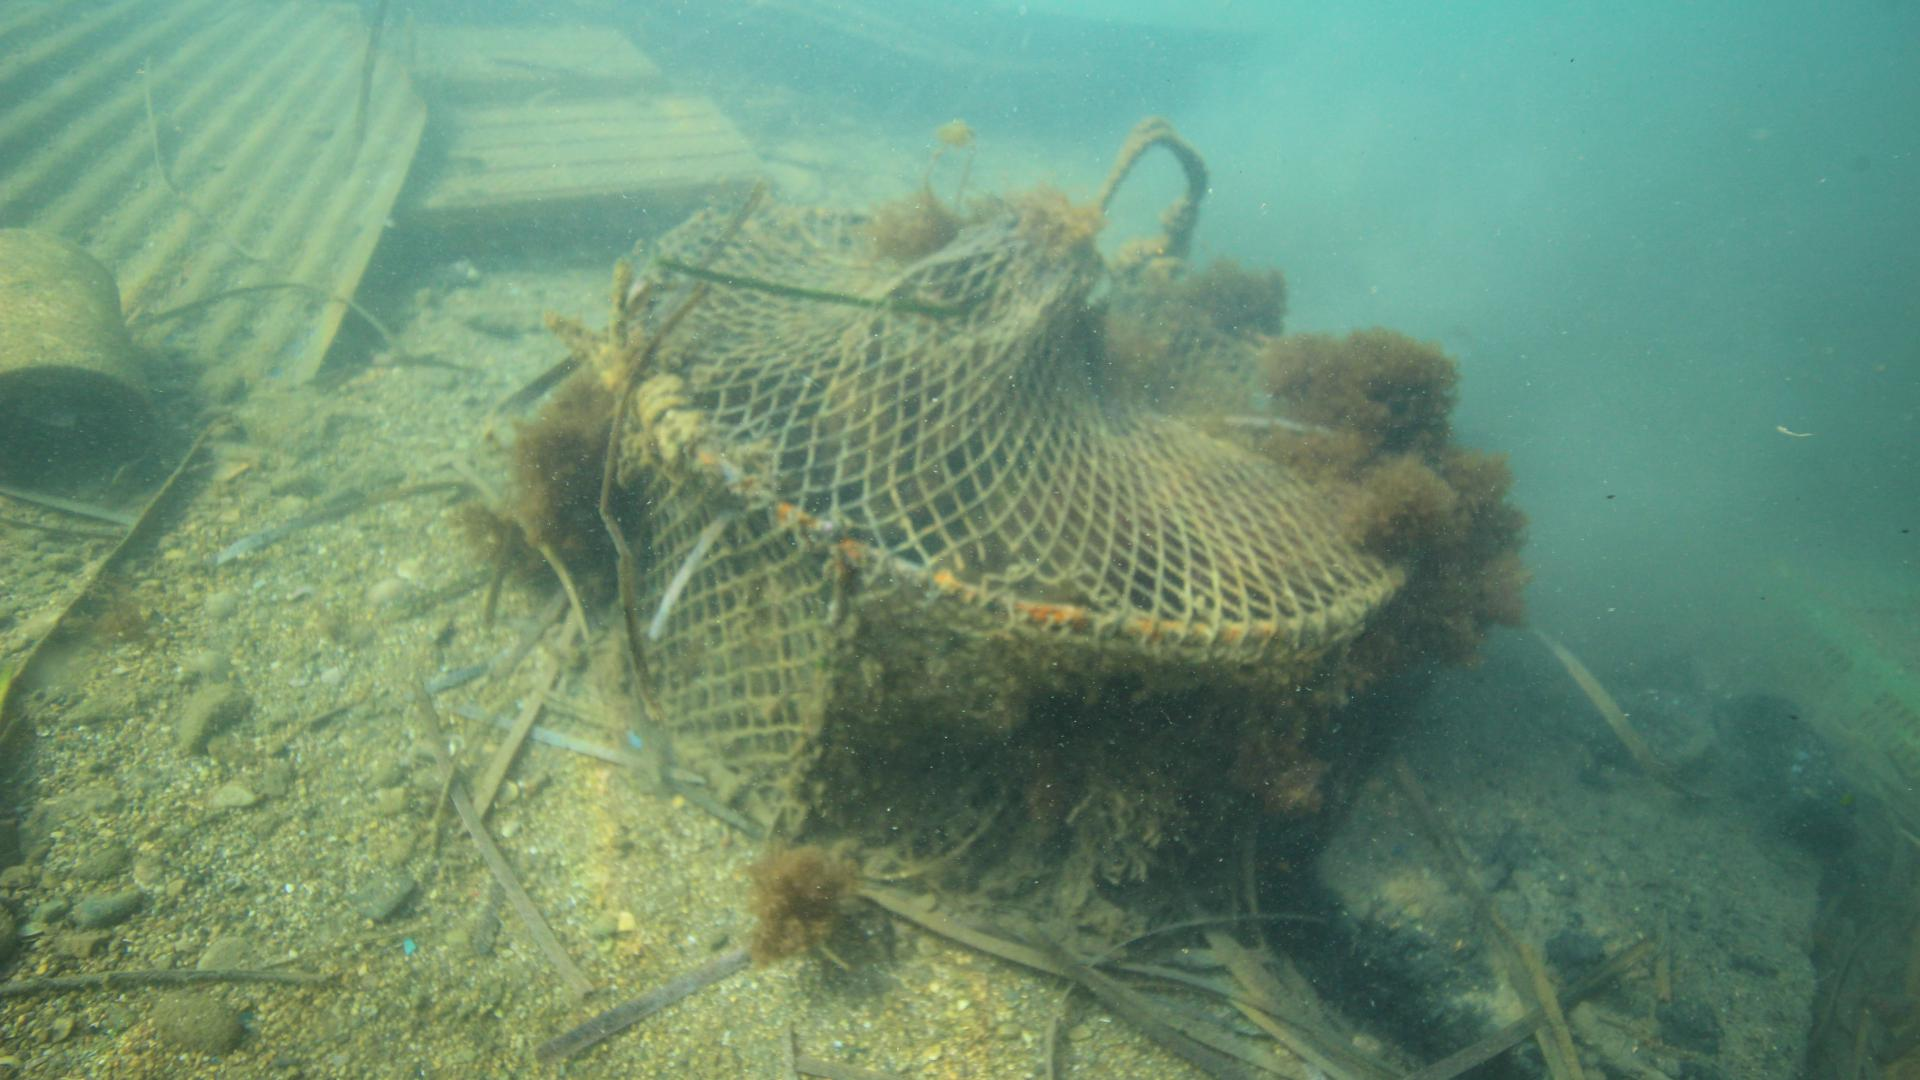bundle of ropes: (1083, 115, 1211, 252)
circular fish trap: (613, 200, 1415, 844)
